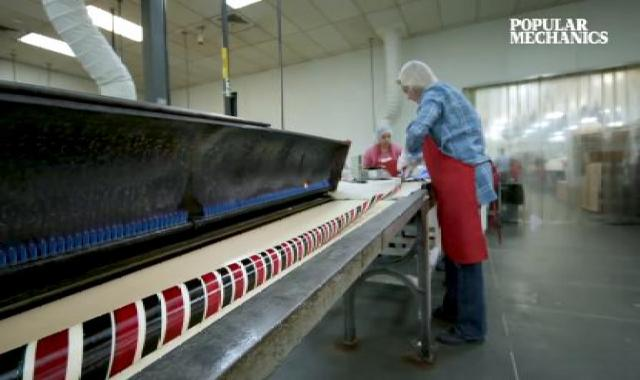hairnet: (385, 56, 452, 96)
